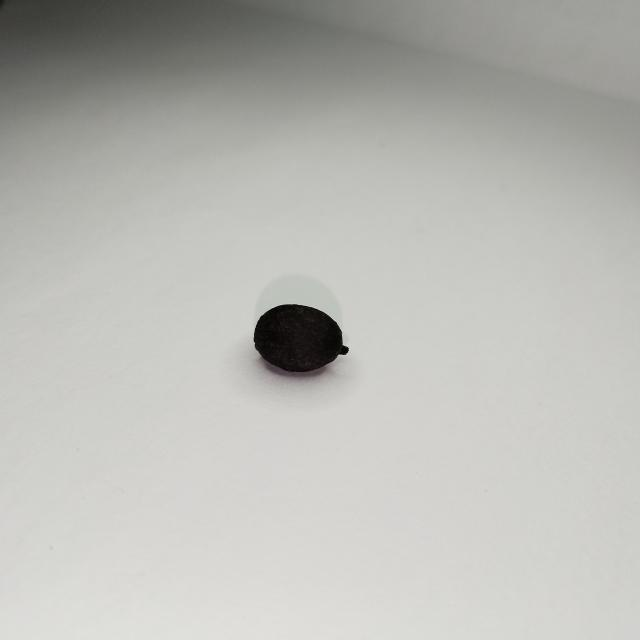Danado: (253, 304, 349, 373)
